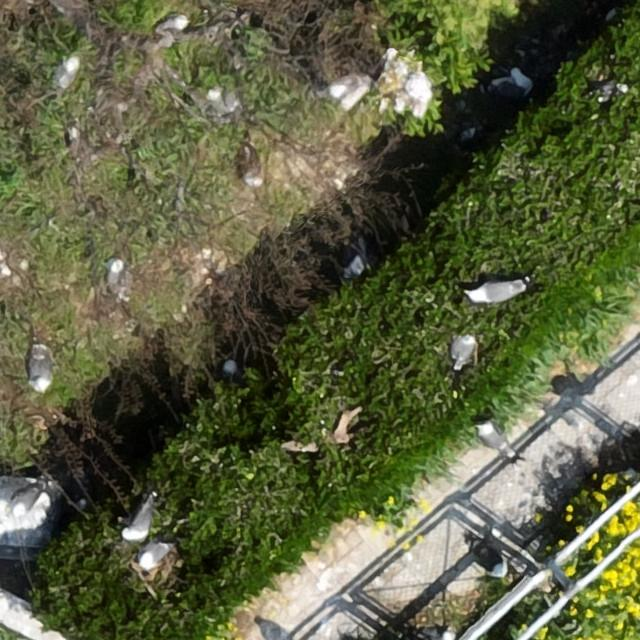umineko: (488, 66, 538, 102), (328, 72, 368, 100), (474, 282, 520, 303), (206, 85, 244, 109), (126, 503, 152, 538), (31, 350, 50, 390), (140, 542, 169, 567), (13, 491, 40, 516), (479, 425, 503, 452), (451, 336, 472, 366), (107, 258, 124, 290), (57, 57, 76, 84), (347, 255, 368, 277), (157, 15, 185, 31), (222, 360, 240, 380), (492, 562, 509, 578)
